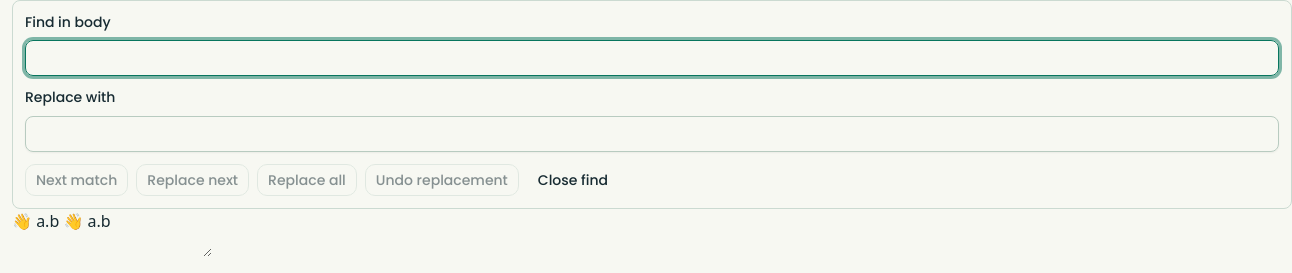
Test case: replaces literal Unicode and dollar signs and can undo a replacement
In the field labelled "Find in body": x=652, y=58 [25, 40, 1279, 76], type "👋 a.b"
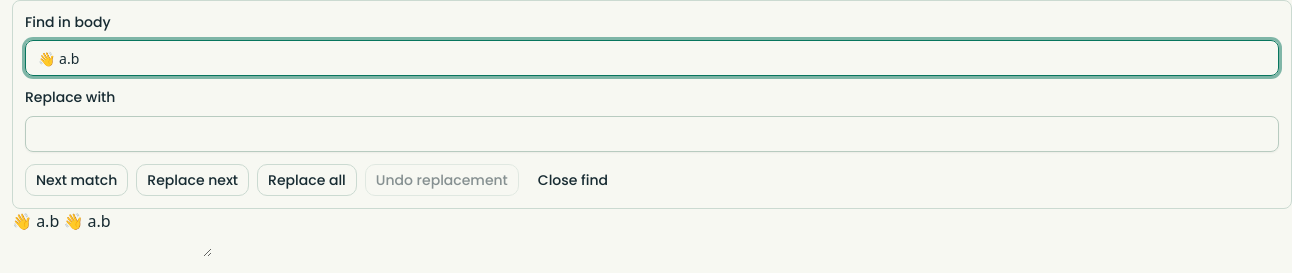
In the field labelled "Replace with": x=652, y=134 [25, 116, 1279, 152], type "$&"
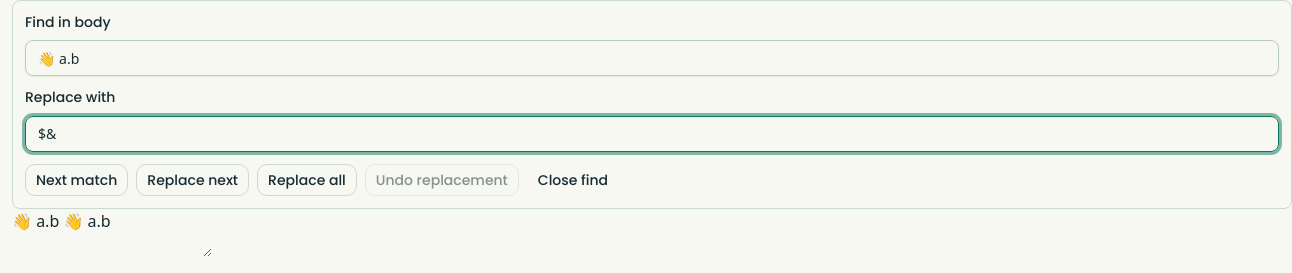
Click the button "Replace all": x=307, y=180 [257, 164, 357, 196]
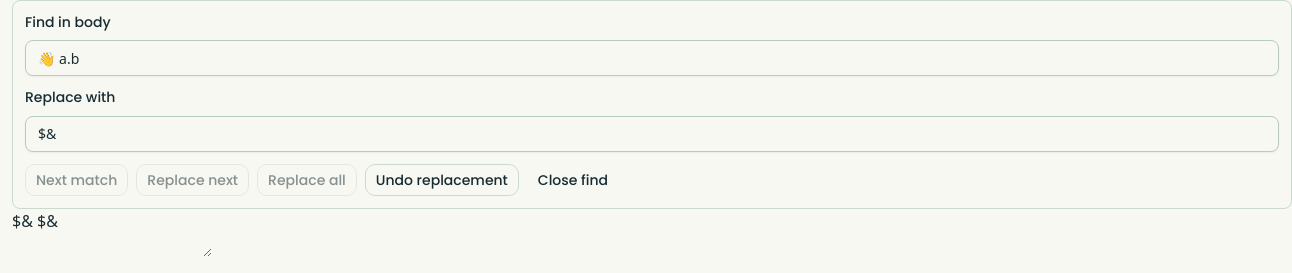
Now the text box named "Body" holds "$& $&", box [12, 208, 212, 256]
Click the button "Undo replacement": x=442, y=180 [365, 164, 519, 196]
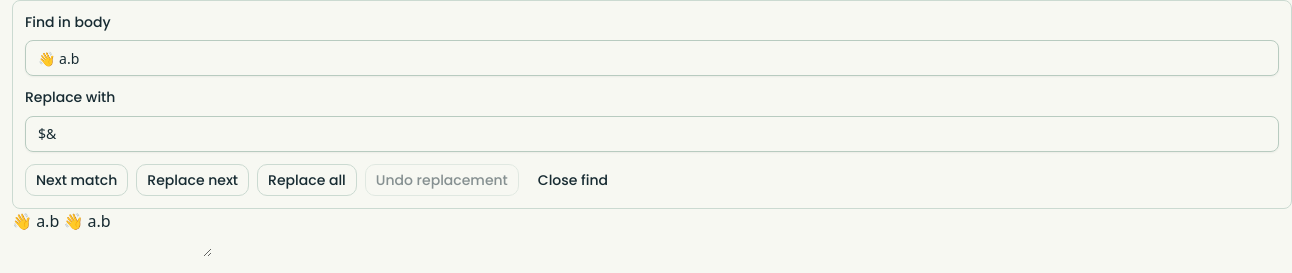
Now the text box named "Body" holds "👋 a.b 👋 a.b", box [12, 208, 212, 256]
